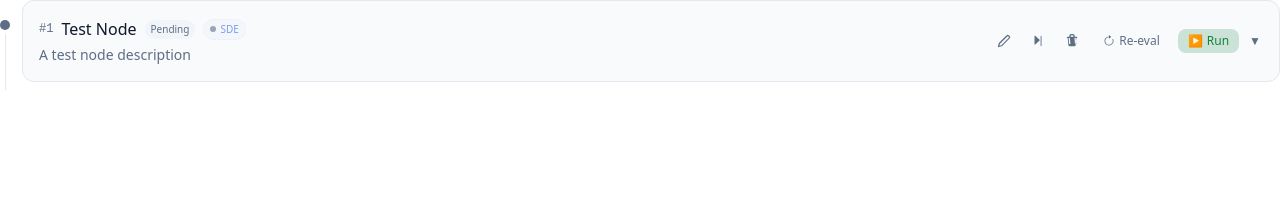
MacroNodeCard › shows delete confirmation dialog on delete click
The width and height of the screenshot is (1280, 199).
Click the button titled "Delete node" at point(1072, 41), box 1059,28 -> 1085,54
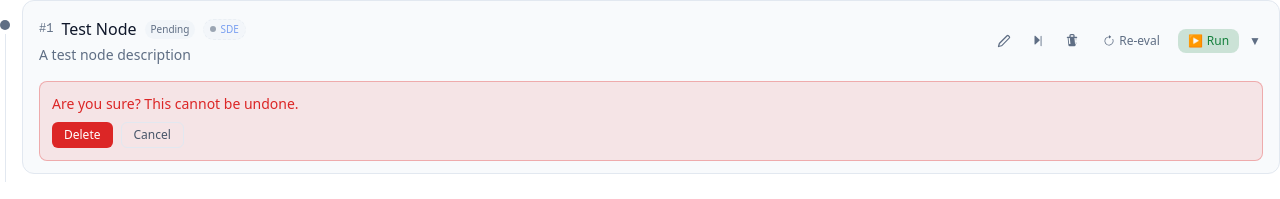
Result: the text "Are you sure? This cannot be undone." is shown at 52,94 -> 299,113
